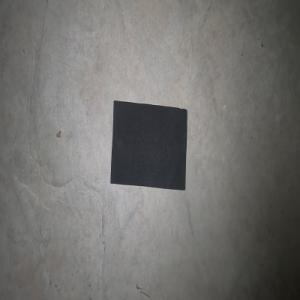PaintChip: (110, 100, 187, 190)
